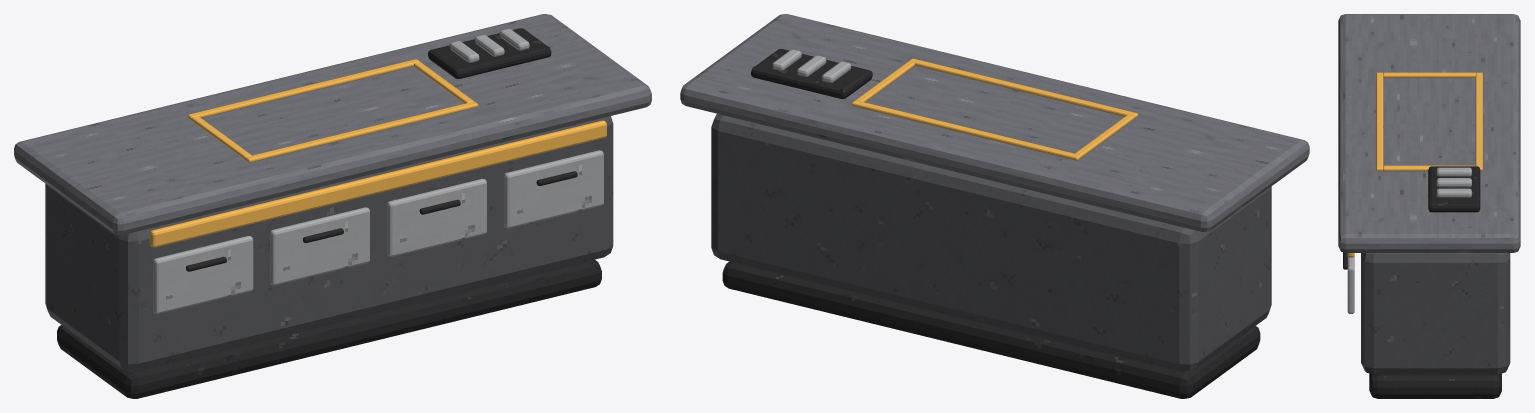
File: decor_chem_clean_workbench.glb
3 renders of one model, left to right at view 1: azimuth 30°, elevation 25°; view 2: azimuth 150°, elevation 25°; view 3: azimuth 270°, elevation 25°, orthographic. The views are drawn at different scales.
Parts seen in each view (by area): view 1: DEC_ChemCleanWorkbench__Worktop, DEC_ChemCleanWorkbench__Cabinet_Body, DEC_ChemCleanWorkbench__Toe_Plinth, DEC_ChemCleanWorkbench__Front_Accent, DEC_ChemCleanWorkbench__Drawer_1, DEC_ChemCleanWorkbench__Drawer_4, DEC_ChemCleanWorkbench__Drawer_3, DEC_ChemCleanWorkbench__Drawer_2, DEC_ChemCleanWorkbench__Tool_Tray, DEC_ChemCleanWorkbench__Clean_Pad_Front, DEC_ChemCleanWorkbench__Clean_Pad_Back, DEC_ChemCleanWorkbench__Clean_Pad_Left; view 2: DEC_ChemCleanWorkbench__Cabinet_Body, DEC_ChemCleanWorkbench__Worktop, DEC_ChemCleanWorkbench__Toe_Plinth, DEC_ChemCleanWorkbench__Tool_Tray, DEC_ChemCleanWorkbench__Clean_Pad_Back, DEC_ChemCleanWorkbench__Clean_Pad_Front; view 3: DEC_ChemCleanWorkbench__Worktop, DEC_ChemCleanWorkbench__Cabinet_Body, DEC_ChemCleanWorkbench__Toe_Plinth, DEC_ChemCleanWorkbench__Tool_Tray, DEC_ChemCleanWorkbench__Clean_Pad_Front, DEC_ChemCleanWorkbench__Clean_Pad_Back, DEC_ChemCleanWorkbench__Clean_Pad_Left, DEC_ChemCleanWorkbench__Drawer_4, DEC_ChemCleanWorkbench__Clean_Pad_Right, DEC_ChemCleanWorkbench__Tray_Tool_1, DEC_ChemCleanWorkbench__Tray_Tool_2, DEC_ChemCleanWorkbench__Tray_Tool_3.
Boxes of the visible parts, x1=… form: DEC_ChemCleanWorkbench__Worktop: x1=14, y1=14, x2=651, y2=234; DEC_ChemCleanWorkbench__Cabinet_Body: x1=45, y1=116, x2=613, y2=371; DEC_ChemCleanWorkbench__Toe_Plinth: x1=57, y1=259, x2=601, y2=398; DEC_ChemCleanWorkbench__Front_Accent: x1=150, y1=120, x2=606, y2=247; DEC_ChemCleanWorkbench__Drawer_1: x1=153, y1=236, x2=253, y2=313; DEC_ChemCleanWorkbench__Drawer_4: x1=504, y1=150, x2=603, y2=228; DEC_ChemCleanWorkbench__Drawer_3: x1=387, y1=178, x2=486, y2=256; DEC_ChemCleanWorkbench__Drawer_2: x1=270, y1=207, x2=369, y2=285; DEC_ChemCleanWorkbench__Tool_Tray: x1=428, y1=28, x2=551, y2=78; DEC_ChemCleanWorkbench__Clean_Pad_Front: x1=245, y1=101, x2=478, y2=162; DEC_ChemCleanWorkbench__Clean_Pad_Back: x1=187, y1=59, x2=419, y2=120; DEC_ChemCleanWorkbench__Clean_Pad_Left: x1=191, y1=116, x2=251, y2=159; DEC_ChemCleanWorkbench__Cabinet_Body: x1=711, y1=114, x2=1271, y2=371; DEC_ChemCleanWorkbench__Worktop: x1=680, y1=14, x2=1309, y2=231; DEC_ChemCleanWorkbench__Toe_Plinth: x1=722, y1=261, x2=1260, y2=398; DEC_ChemCleanWorkbench__Tool_Tray: x1=751, y1=49, x2=872, y2=98; DEC_ChemCleanWorkbench__Clean_Pad_Back: x1=851, y1=100, x2=1081, y2=160; DEC_ChemCleanWorkbench__Clean_Pad_Front: x1=909, y1=58, x2=1138, y2=118; DEC_ChemCleanWorkbench__Worktop: x1=1338, y1=14, x2=1520, y2=252; DEC_ChemCleanWorkbench__Cabinet_Body: x1=1361, y1=253, x2=1510, y2=374; DEC_ChemCleanWorkbench__Toe_Plinth: x1=1369, y1=373, x2=1501, y2=398; DEC_ChemCleanWorkbench__Tool_Tray: x1=1428, y1=166, x2=1480, y2=212; DEC_ChemCleanWorkbench__Clean_Pad_Front: x1=1376, y1=72, x2=1383, y2=171; DEC_ChemCleanWorkbench__Clean_Pad_Back: x1=1475, y1=72, x2=1482, y2=171; DEC_ChemCleanWorkbench__Clean_Pad_Left: x1=1383, y1=72, x2=1475, y2=77; DEC_ChemCleanWorkbench__Drawer_4: x1=1347, y1=256, x2=1354, y2=313; DEC_ChemCleanWorkbench__Clean_Pad_Right: x1=1383, y1=165, x2=1475, y2=171; DEC_ChemCleanWorkbench__Tray_Tool_1: x1=1436, y1=167, x2=1471, y2=176; DEC_ChemCleanWorkbench__Tray_Tool_2: x1=1436, y1=178, x2=1471, y2=187; DEC_ChemCleanWorkbench__Tray_Tool_3: x1=1436, y1=188, x2=1471, y2=197.
Bounding box in the file's own units: 2.58 × 1.04 × 0.88.
5 materials, 4 textured.
